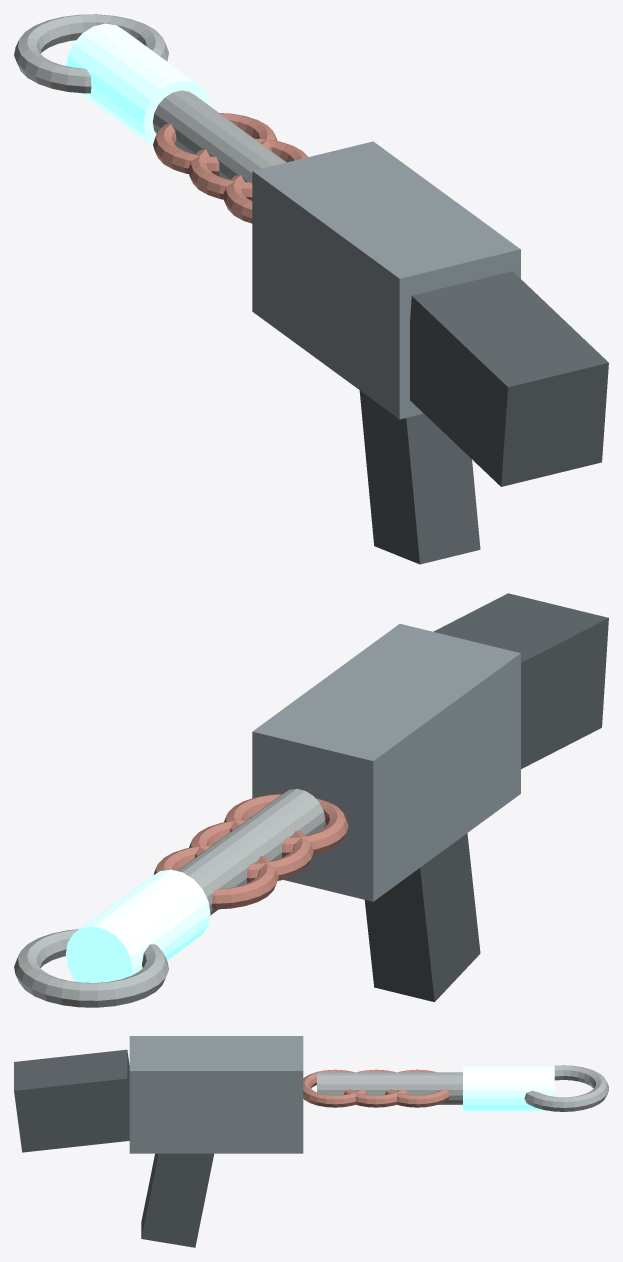
File: prop-zapper.glb
3 renders of one model, top to bottom at view 1: azimuth 30°, elevation 25°; view 2: azimuth 150°, elevation 25°; view 3: azimuth 270°, elevation 25°, orthographic. The views are drawn at different scales.
Parts seen in each view (by area): view 1: receiver, stock, grip, coil, barrel, muzzleRing, ring2, ring1, ring0; view 2: receiver, stock, grip, coil, barrel, muzzleRing, ring2, ring0, ring1; view 3: receiver, stock, grip, coil, barrel, muzzleRing, ring0, ring2, ring1.
Boxes of the visible parts, x1,y1,x2,y2 form: receiver: (252,141,520,419); stock: (410,271,608,486); grip: (359,390,480,564); coil: (66,23,209,146); barrel: (152,90,286,184); muzzleRing: (14,14,168,93); ring2: (153,113,277,176); ring1: (188,138,307,200); ring0: (223,175,252,223); receiver: (252,624,520,901); stock: (433,593,608,768); grip: (364,833,480,1001); coil: (65,869,210,982); barrel: (178,789,324,915); muzzleRing: (14,929,168,1007); ring2: (153,845,278,909); ring0: (224,794,348,857); ring1: (189,819,313,882); receiver: (129,1036,303,1153); stock: (14,1049,129,1152); grip: (141,1153,213,1247); coil: (463,1066,554,1111); barrel: (317,1072,462,1104); muzzleRing: (524,1065,608,1111); ring0: (303,1069,367,1107); ring2: (385,1069,450,1107); ring1: (344,1069,408,1107).
Size of the model in its own units: 0.2 by 0.4485 by 1.3.
